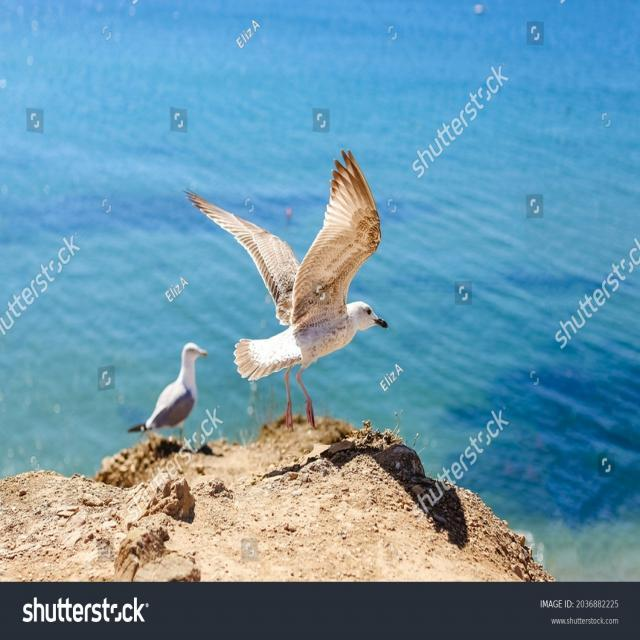bird: (162, 137, 424, 444), (105, 288, 217, 457)
